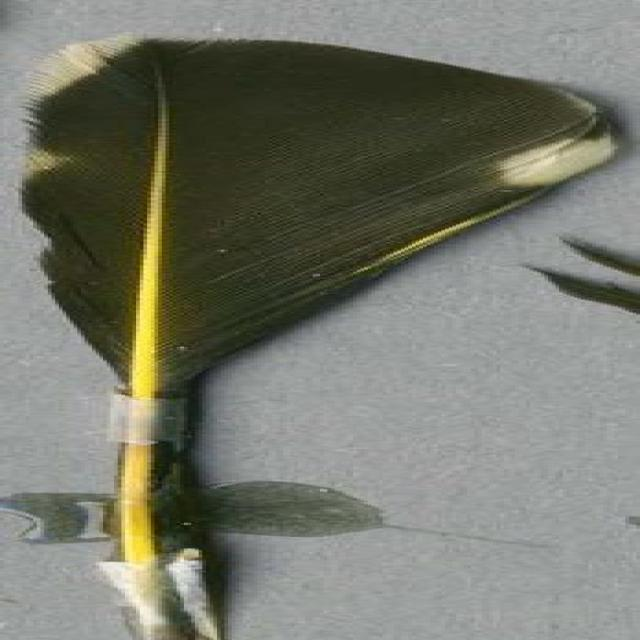feather: (19, 36, 626, 640)
